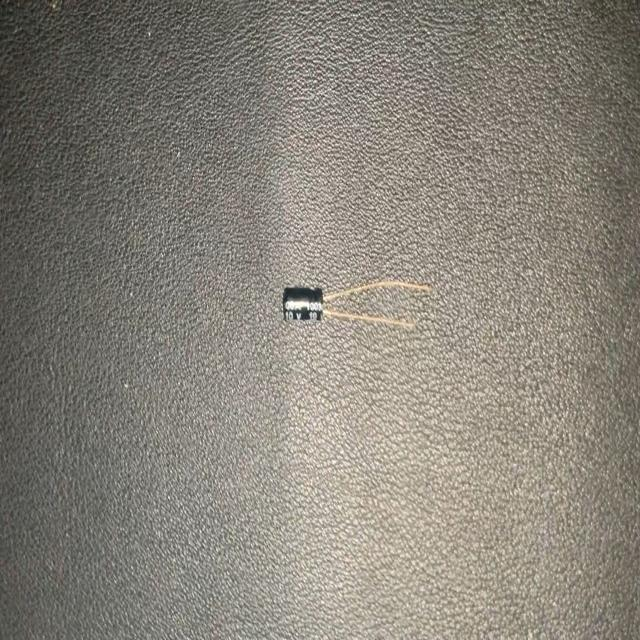capacitor: (280, 271, 435, 339)
